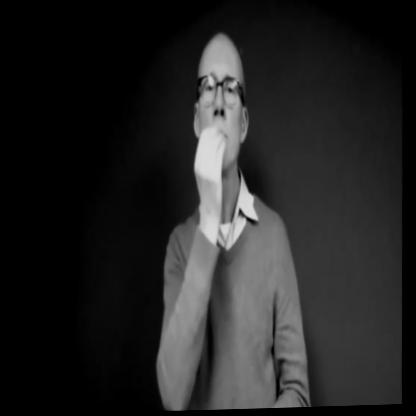Food: (177, 30, 267, 219)
